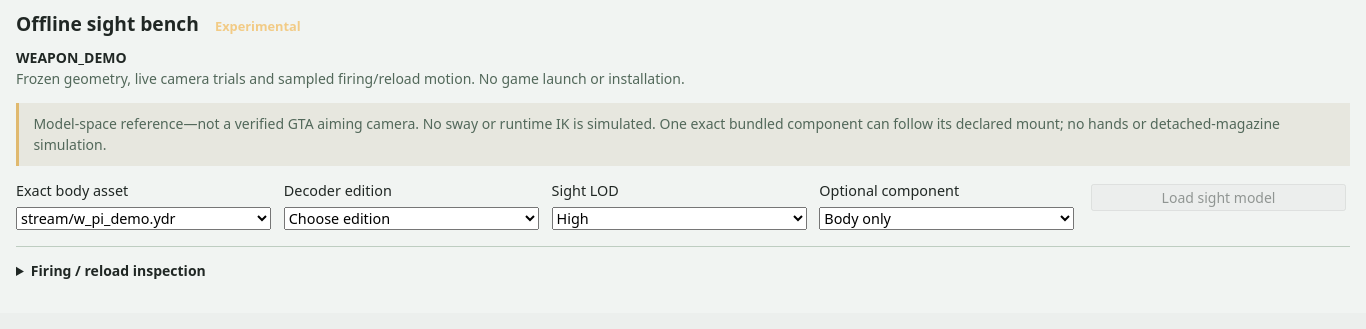
refuses mismatched source evidence
Select "Enhanced" in the dropdown labelled "Decoder edition" at (411, 218), box [284,207,539,230]
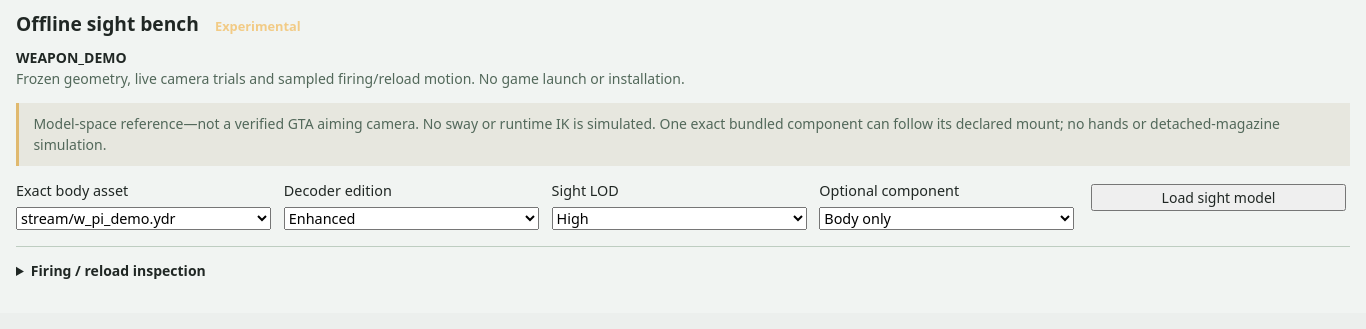
Click the button "Load sight model".
click(1219, 197)  # box [1091,184,1346,211]
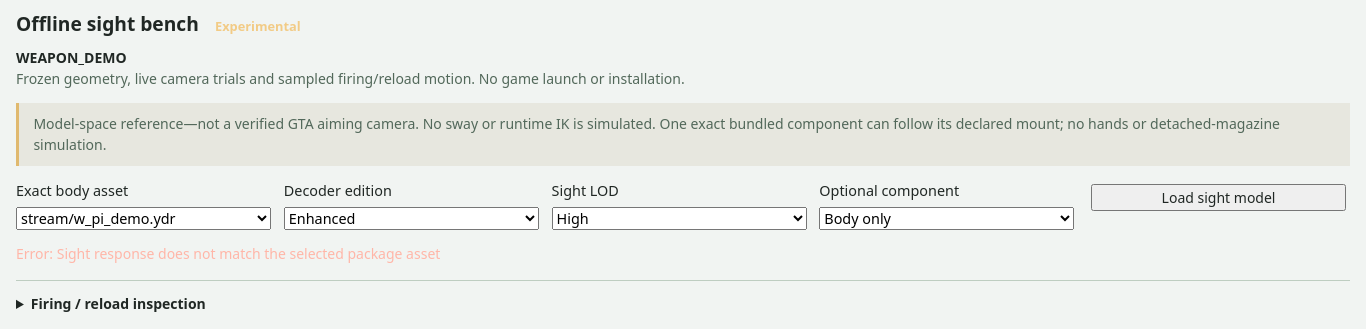
Check: the message shows "does not match", box [16,244,440,263]
